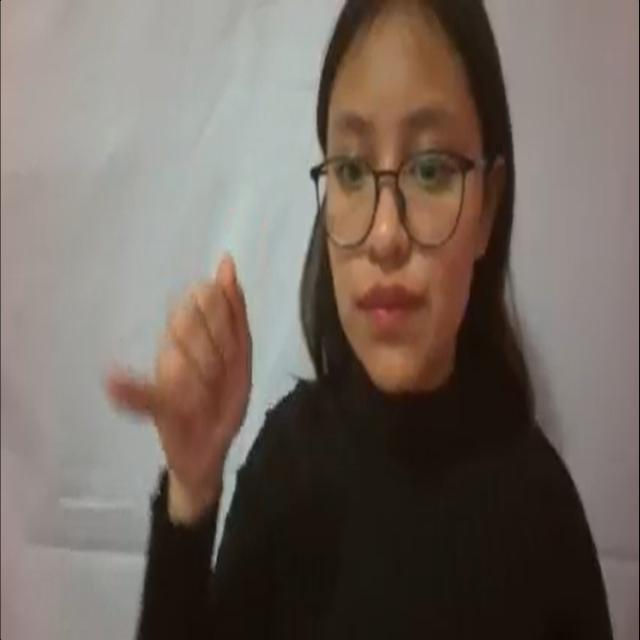J: (94, 223, 282, 532)
